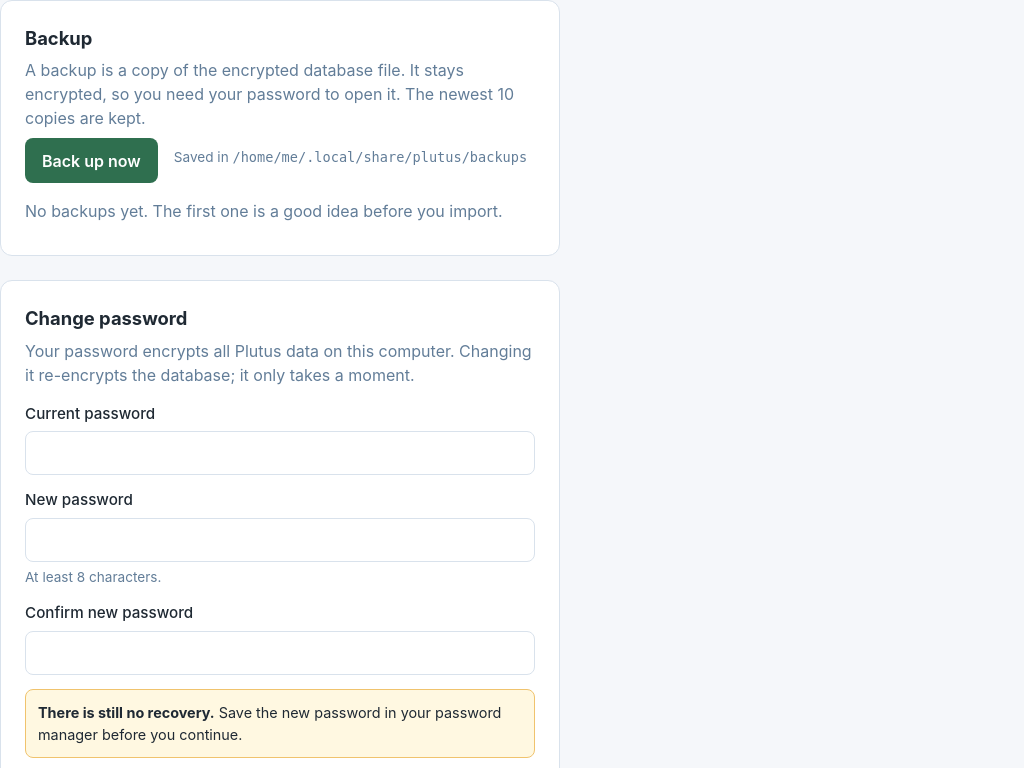
Scenario: SettingsPage: backup › backs up on demand and reloads the list
Expected: the text "No backups yet" is shown, [25,201,503,221]
Click the button "Back up now". click: (91, 161)
box: [25,138,158,183]
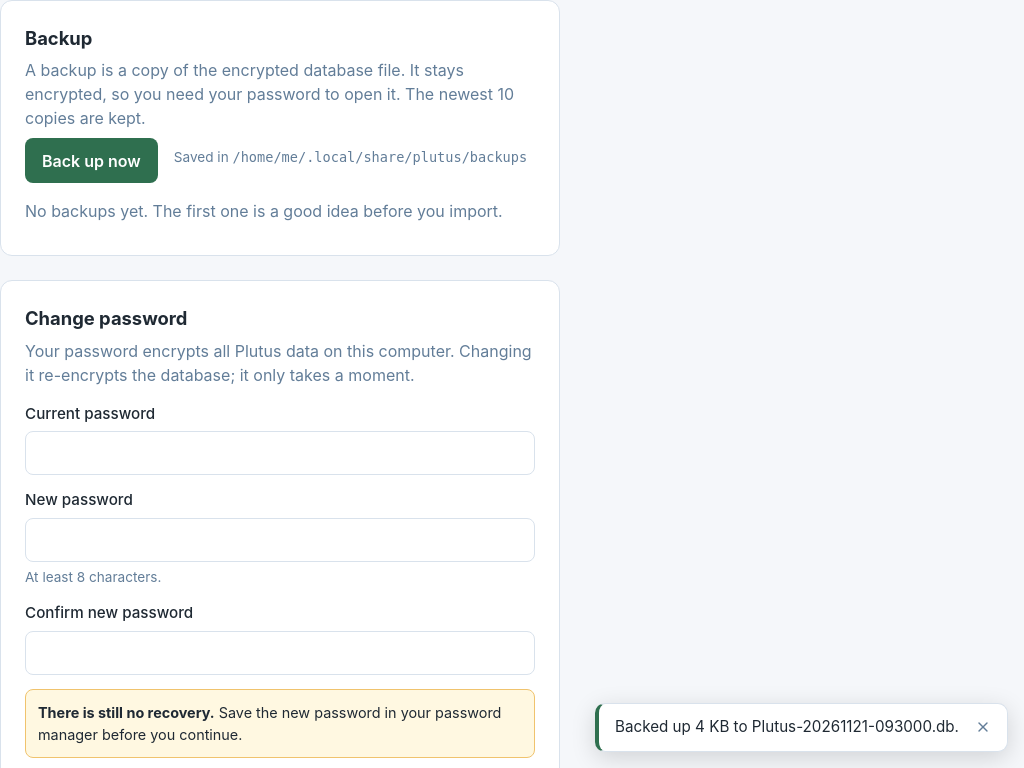
Expected: the text "Backed up 4 KB to Plutus-20261121-093000.db." is shown, [615,716,959,739]
